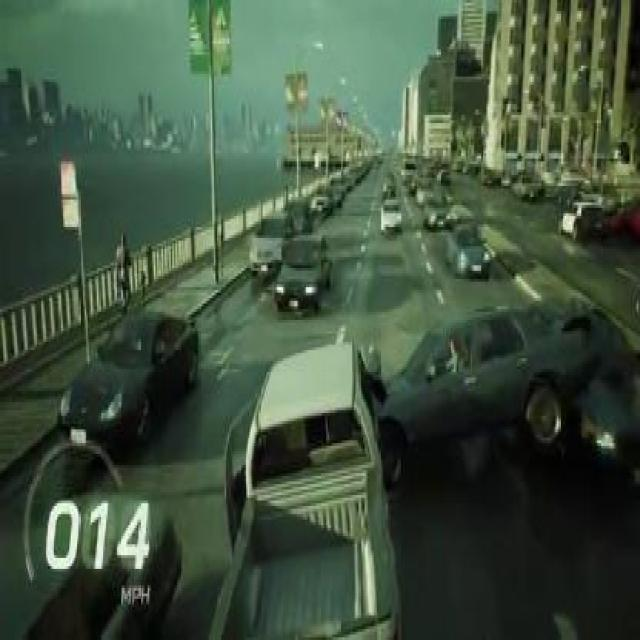accident: (199, 293, 606, 637), (371, 290, 640, 509)
